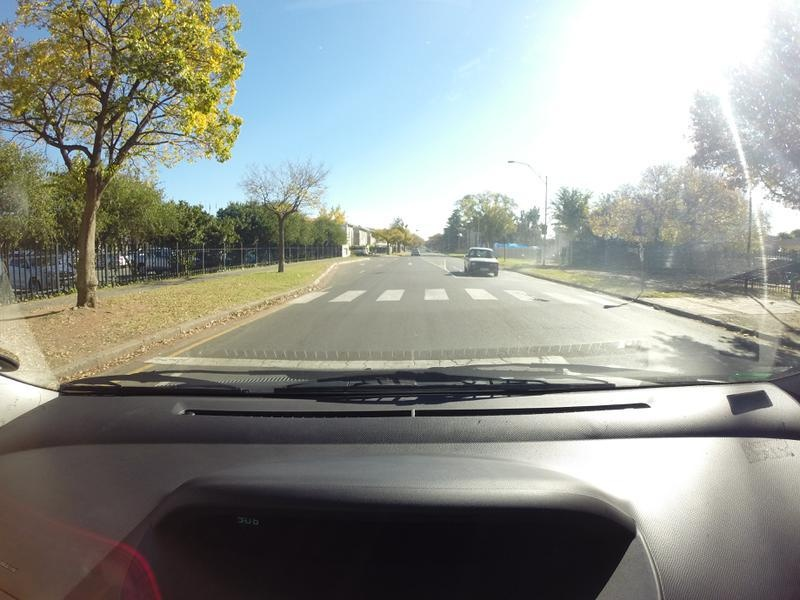pothole: (535, 296, 551, 303)
